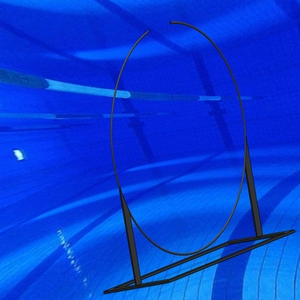circle: (103, 20, 297, 296)
